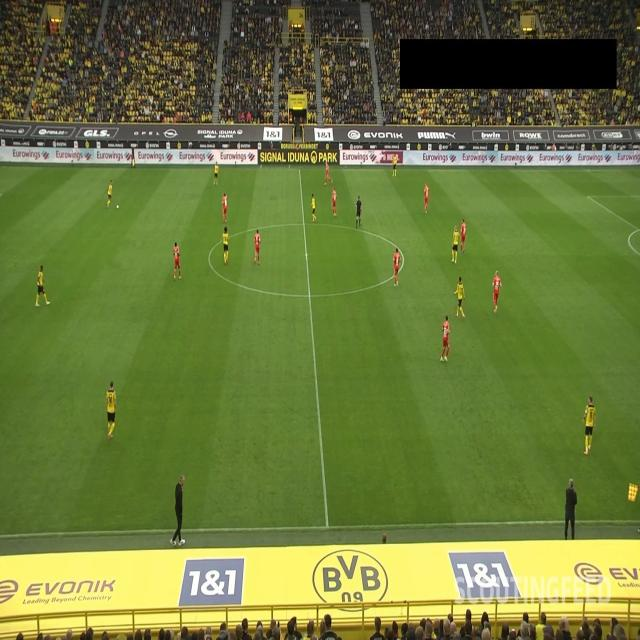ball: (116, 203, 119, 210)
